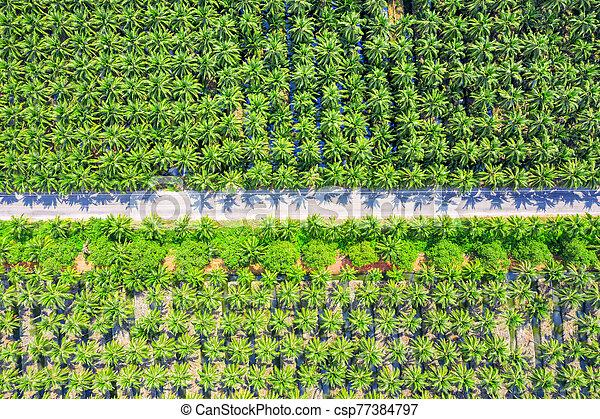coconut_tree: (7, 285, 51, 314), (170, 279, 201, 319), (134, 285, 174, 314), (186, 162, 226, 191), (232, 235, 272, 264), (288, 133, 328, 162), (288, 110, 328, 139), (285, 86, 325, 115), (278, 63, 318, 92), (279, 37, 319, 66), (383, 58, 423, 87), (64, 122, 104, 151), (120, 120, 160, 149), (160, 118, 200, 147), (234, 91, 274, 120), (208, 62, 248, 91), (121, 313, 161, 342), (0, 213, 40, 242), (501, 132, 541, 161), (517, 29, 557, 58), (104, 208, 144, 237), (36, 211, 76, 240), (237, 92, 277, 121), (533, 334, 573, 363), (421, 365, 461, 394), (237, 362, 277, 391), (184, 210, 224, 239), (183, 161, 223, 190), (86, 27, 126, 56), (219, 279, 259, 308), (460, 26, 500, 55), (184, 2, 224, 31), (494, 159, 534, 188), (422, 278, 462, 307), (55, 306, 95, 335), (268, 217, 308, 246), (268, 276, 308, 305), (520, 82, 560, 111), (312, 33, 352, 62), (445, 55, 485, 84), (204, 36, 244, 65), (400, 160, 440, 189), (317, 157, 357, 186), (242, 155, 282, 184), (135, 363, 175, 392), (479, 334, 519, 363), (388, 309, 428, 338), (339, 308, 379, 337), (163, 330, 203, 359), (91, 342, 131, 371), (35, 147, 75, 176), (16, 8, 56, 37), (16, 98, 56, 127), (63, 77, 103, 106), (163, 67, 203, 96), (388, 107, 428, 136), (186, 363, 226, 392), (119, 162, 159, 191), (349, 336, 389, 365), (38, 335, 78, 364), (236, 309, 276, 338), (338, 106, 378, 135), (213, 129, 253, 158), (0, 336, 39, 365), (195, 278, 225, 313)
